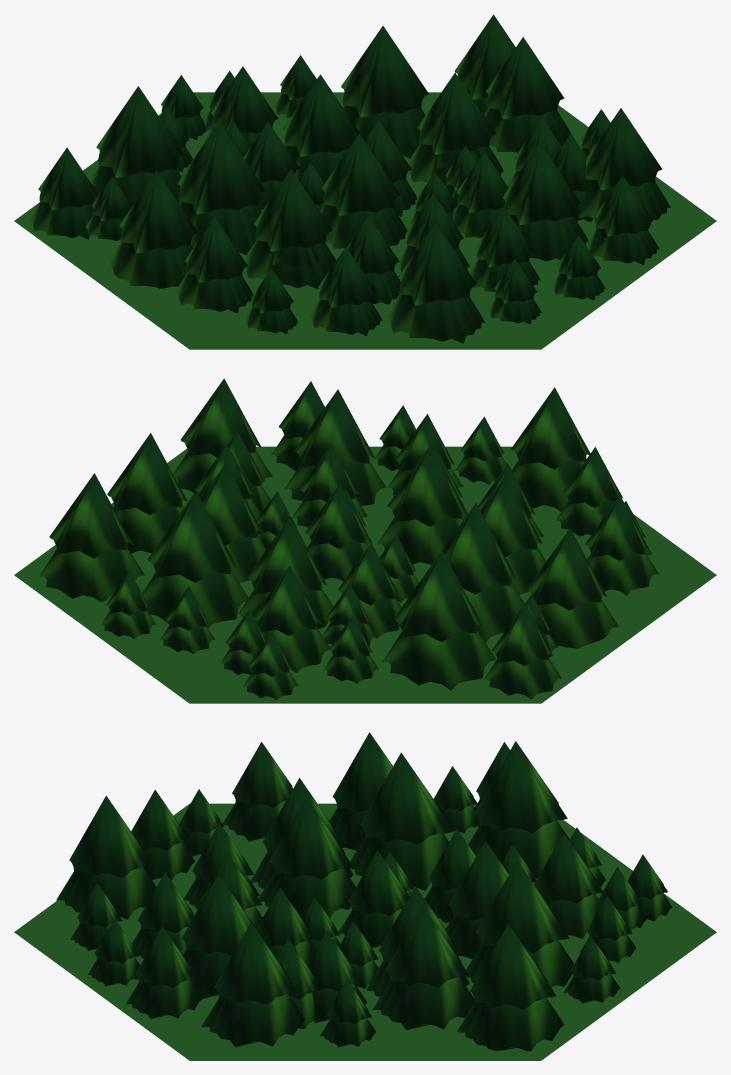
The model's file is lasiglasty.gltf.
3 views of the same model, one above another, from view 1: azimuth 30°, elevation 25°; view 2: azimuth 150°, elevation 25°; view 3: azimuth 270°, elevation 25° (orthographic).
Visible parts, largest first — view 1: hextile, iglak.055, iglak.053, iglak.009, iglak.052, iglak.059, iglak.049, iglak.051, iglak.007, iglak.015, iglak.022, iglak.004 (+27 smaller); view 2: hextile, iglak.059, iglak.009, iglak.003, iglak.052, iglak.051, iglak.055, iglak.053, iglak.007, iglak.015, iglak.022, iglak.054 (+25 smaller); view 3: hextile, iglak.003, iglak.022, iglak.053, iglak.007, iglak.059, iglak.055, iglak.051, iglak.009, iglak.015, iglak.062, iglak.006 (+27 smaller).
Boxes of the visible parts, x1=… form: hextile: x1=14, y1=92, x2=716, y2=349; iglak.055: x1=385, y1=223, x2=484, y2=343; iglak.053: x1=177, y1=122, x2=265, y2=255; iglak.009: x1=341, y1=26, x2=428, y2=158; iglak.052: x1=109, y1=171, x2=197, y2=288; iglak.059: x1=89, y1=86, x2=184, y2=205; iglak.049: x1=244, y1=169, x2=335, y2=288; iglak.051: x1=320, y1=133, x2=407, y2=248; iglak.007: x1=484, y1=37, x2=570, y2=152; iglak.015: x1=502, y1=143, x2=588, y2=261; iglak.022: x1=578, y1=108, x2=670, y2=228; iglak.004: x1=407, y1=72, x2=503, y2=186; hextile: x1=14, y1=446, x2=716, y2=703; iglak.059: x1=382, y1=550, x2=496, y2=690; iglak.009: x1=142, y1=491, x2=248, y2=628; iglak.003: x1=39, y1=473, x2=144, y2=601; iglak.052: x1=527, y1=528, x2=618, y2=648; iglak.051: x1=377, y1=444, x2=467, y2=564; iglak.055: x1=511, y1=387, x2=590, y2=511; iglak.053: x1=442, y1=502, x2=524, y2=642; iglak.007: x1=107, y1=433, x2=187, y2=553; iglak.015: x1=284, y1=389, x2=386, y2=505; iglak.022: x1=173, y1=378, x2=272, y2=496; iglak.054: x1=585, y1=495, x2=658, y2=595; hextile: x1=14, y1=803, x2=716, y2=1060; iglak.003: x1=457, y1=924, x2=564, y2=1051; iglak.022: x1=201, y1=922, x2=305, y2=1047; iglak.053: x1=349, y1=752, x2=452, y2=890; iglak.007: x1=372, y1=905, x2=474, y2=1030; iglak.059: x1=468, y1=741, x2=569, y2=878; iglak.055: x1=56, y1=795, x2=156, y2=919; iglak.051: x1=258, y1=797, x2=355, y2=918; iglak.009: x1=465, y1=861, x2=573, y2=987; iglak.015: x1=181, y1=874, x2=257, y2=998; iglak.062: x1=125, y1=926, x2=202, y2=1018; iglak.006: x1=534, y1=833, x2=602, y2=938.
Bounding box in the file's own units: 1.73 × 0.3876 × 2.
2 materials, 1 textured.
